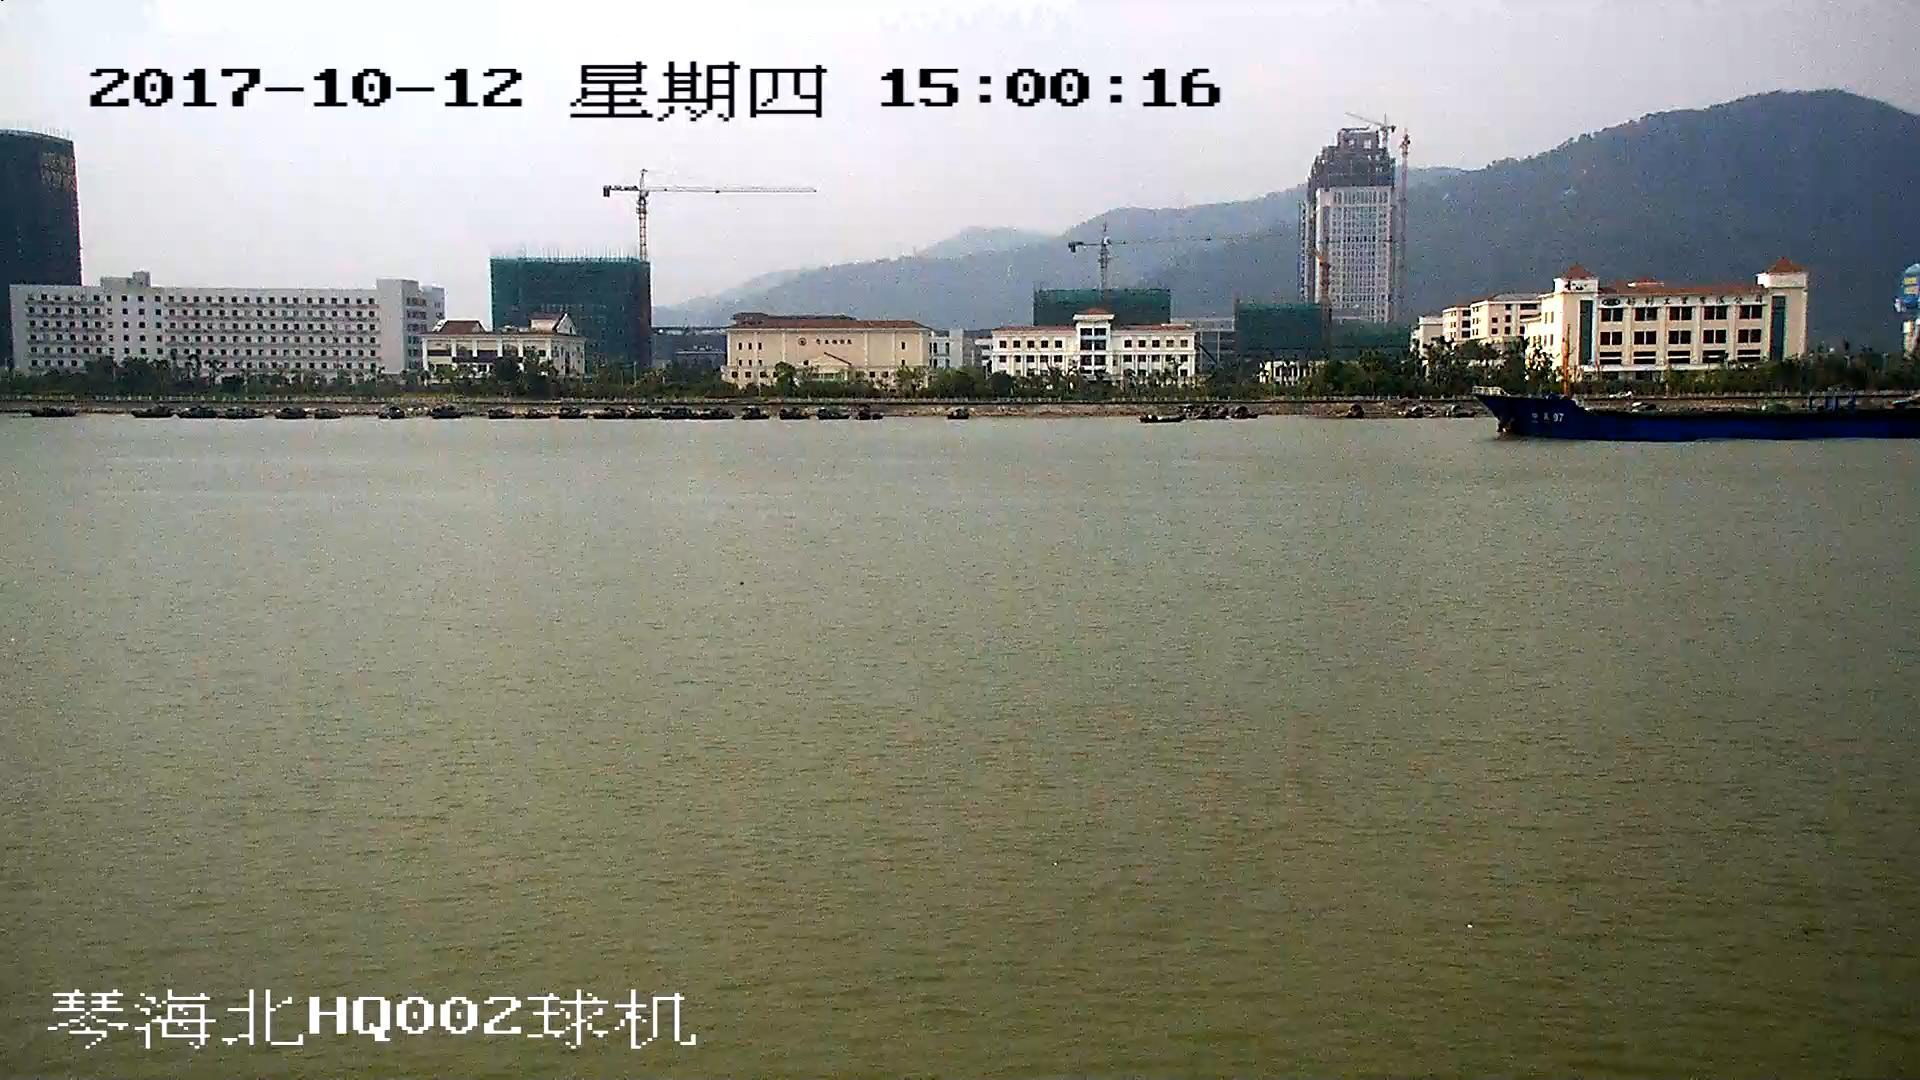Ship: (1473, 389, 1920, 442)
